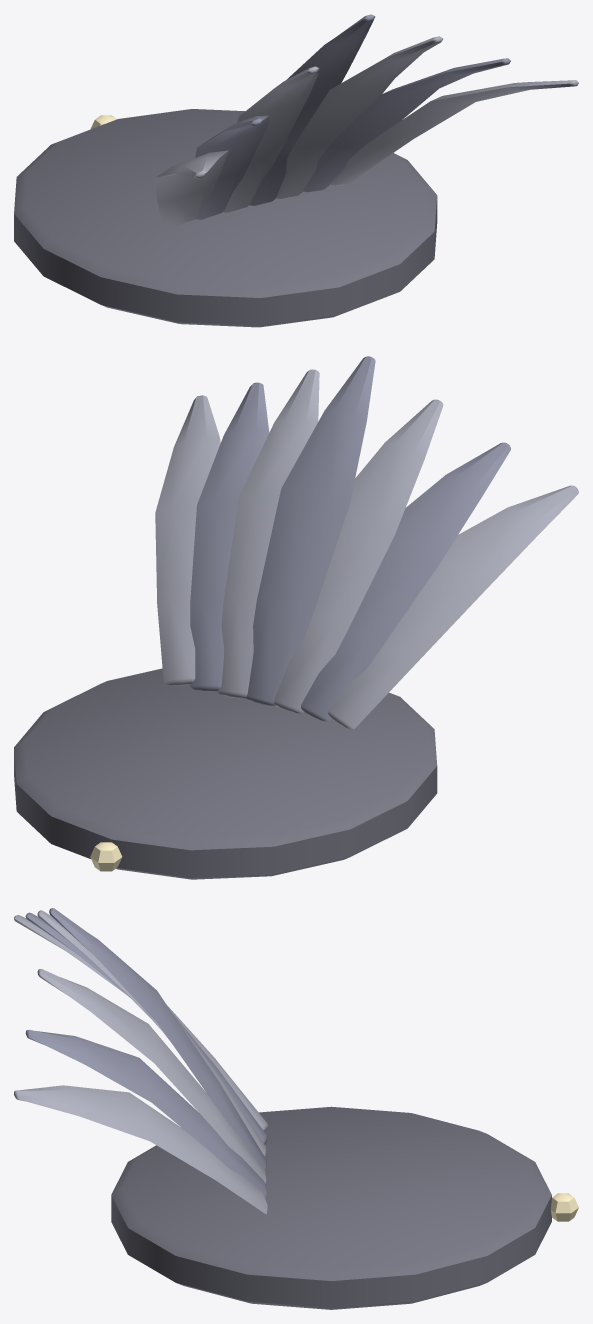
Rendered from trophy_roc_crest.gltf.
The picture shows the model from 3 angles, top to bottom: view 1: azimuth 30°, elevation 25°; view 2: azimuth 150°, elevation 25°; view 3: azimuth 270°, elevation 25°; orthographic projection. The views are drawn at different scales.
Parts seen in each view (by area): view 1: Body; view 2: Body; view 3: Body.
Part boxes in pixels (x1,y1,x2,y2): Body: [14, 14, 578, 327]; Body: [14, 356, 578, 879]; Body: [14, 908, 578, 1309].
Size of the model in its own units: 0.2471 by 0.2017 by 0.3239.
